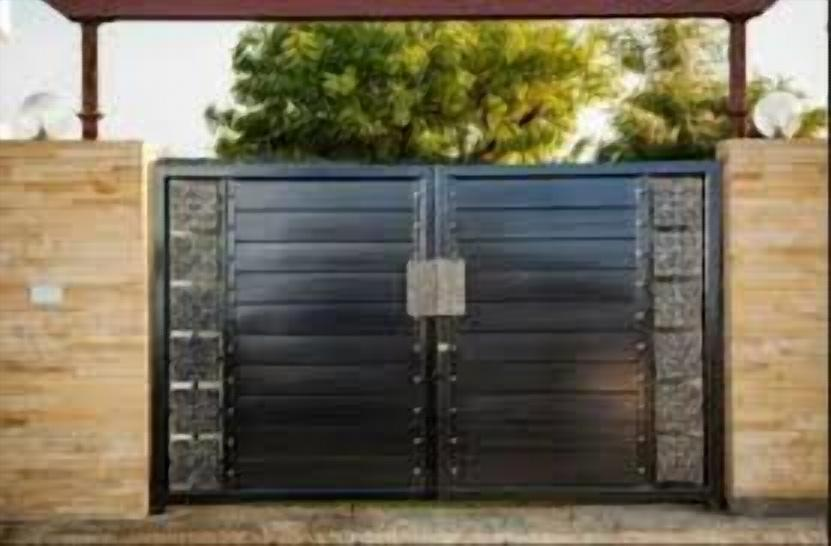Gate: (147, 158, 723, 517)
